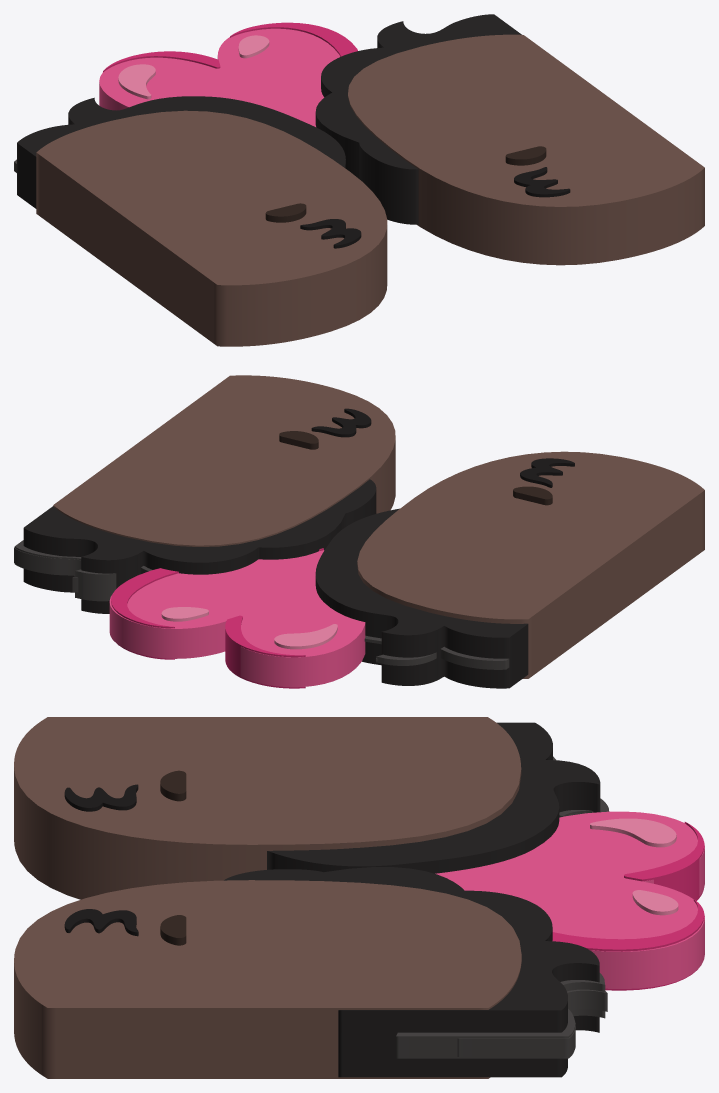
Rendered from emoji_u1f48f_1f3ff.glb.
3 renders of one model, top to bottom at view 1: azimuth 30°, elevation 25°; view 2: azimuth 150°, elevation 25°; view 3: azimuth 270°, elevation 25°, orthographic. The views are drawn at different scales.
Parts seen in each view (by area): view 1: emoji_u1f48f_1f3ff; view 2: emoji_u1f48f_1f3ff; view 3: emoji_u1f48f_1f3ff.
Boxes of the visible parts, x1=… form: emoji_u1f48f_1f3ff: x1=14, y1=14, x2=704, y2=346; emoji_u1f48f_1f3ff: x1=14, y1=375, x2=704, y2=688; emoji_u1f48f_1f3ff: x1=14, y1=717, x2=704, y2=1078.
Bounding box in the file's own units: 0.0338 × 0.0048 × 0.0336.
